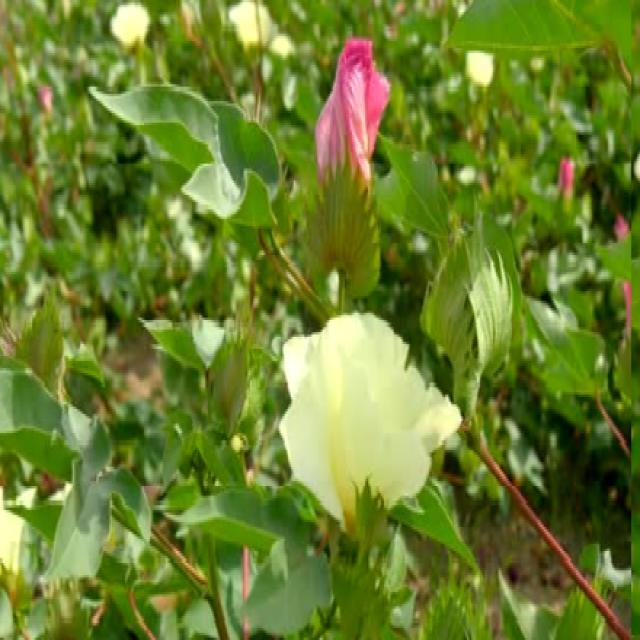Cotton Blossom: (281, 304, 463, 592), (299, 26, 392, 290)
Cotton Bud: (427, 201, 520, 413)
